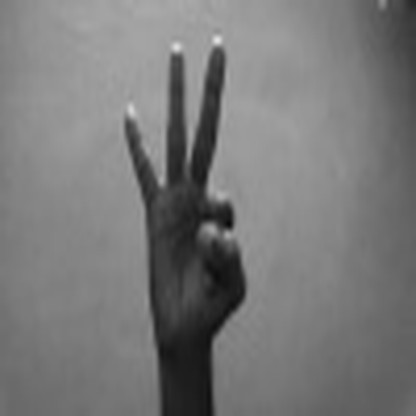f: (110, 32, 257, 335)
